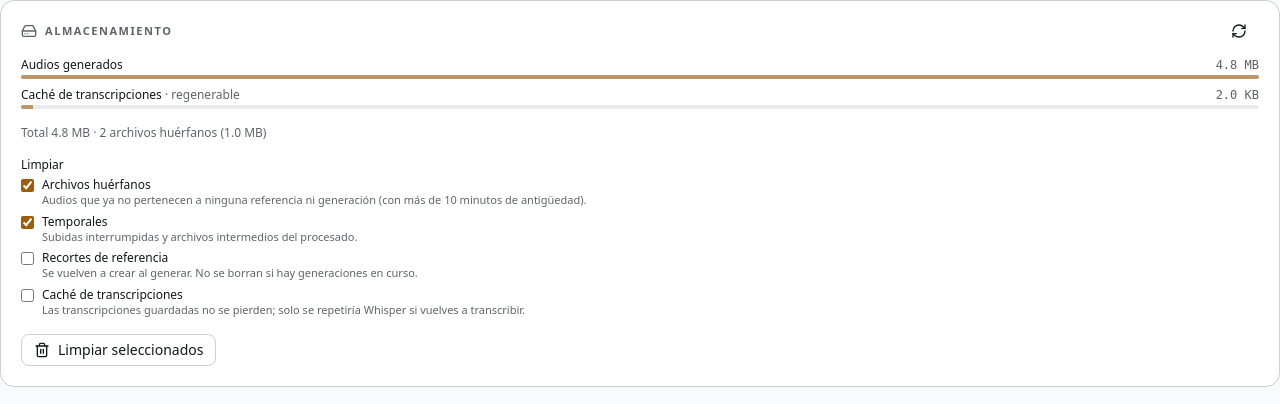
it: StorageCard › lists usage and cleans the selected categories after confirming
Expected: the text "Total 4.8 MB · 2 archivos huérfanos (1.0 MB)" is shown, [21,124,266,141]
Step 1. Click the checkbox labelled "Caché de transcripciones" → (28,296), box [21,289,34,302]
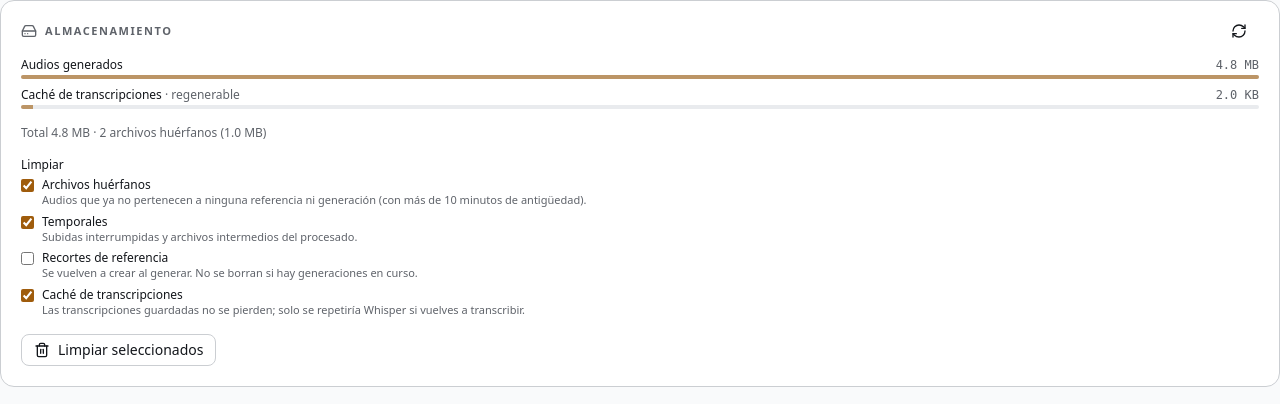
Step 2. Click the button "Limpiar seleccionados" → (119,350), box [21,334,216,366]
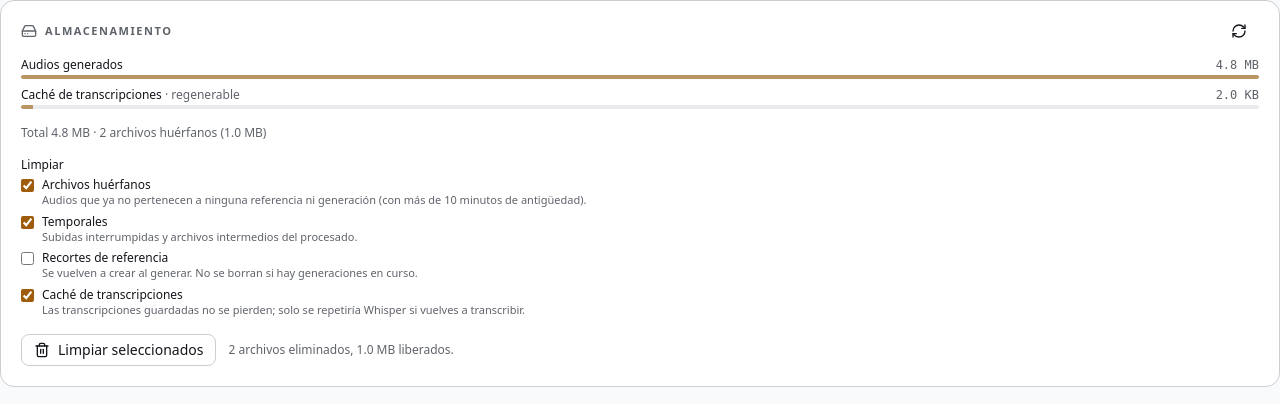
Expected: the text "2 archivos eliminados, 1.0 MB liberados." is shown, [228,342,454,358]
